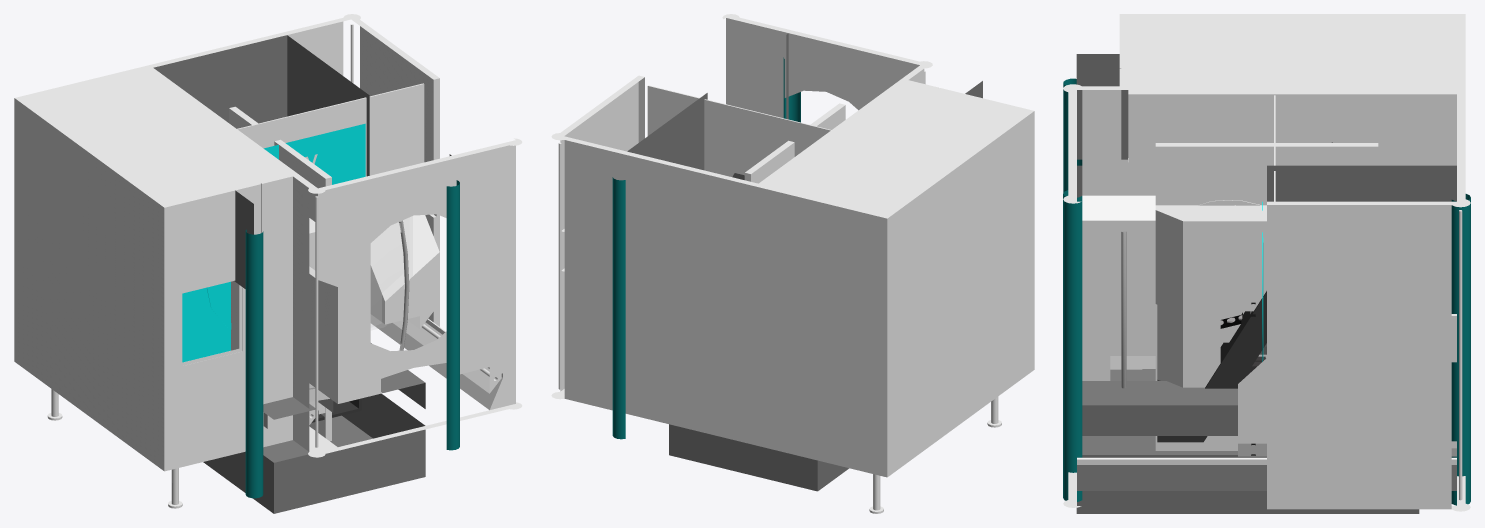
The model's file is DMC_small.glb.
3 renders of one model, left to right at view 1: azimuth 30°, elevation 25°; view 2: azimuth 150°, elevation 25°; view 3: azimuth 270°, elevation 25°, orthographic. The views are drawn at different scales.
Parts seen in each view (by area): view 1: 006435-1 - Teil, 006435-1 - Teil 2, 006435-1 - Teil 4, 006435-1 - Teil 3, 006435-1 - Teil 5, 006439-1 - Teil, 006435-1 - Teil 8; view 2: 006435-1 - Teil, 006435-1 - Teil 2, 006435-1 - Teil 4, 006439-1 - Teil; view 3: 006435-1 - Teil, 006435-1 - Teil 2, 006904-1 - Teil, 006439-1 - Teil, 006435-1 - Teil 4, 006451-1 - Teil, 006435-1 - Teil 8.
Part boxes in pixels (x1,y1,x2,y2): 006435-1 - Teil: (14, 14, 522, 508); 006435-1 - Teil 2: (153, 35, 451, 513); 006435-1 - Teil 4: (245, 180, 459, 498); 006435-1 - Teil 3: (182, 123, 365, 362); 006435-1 - Teil 5: (371, 216, 412, 329); 006439-1 - Teil: (229, 106, 331, 441); 006435-1 - Teil 8: (263, 220, 409, 428); 006435-1 - Teil: (551, 14, 1034, 513); 006435-1 - Teil 2: (627, 33, 982, 491); 006435-1 - Teil 4: (612, 57, 800, 439); 006439-1 - Teil: (744, 103, 845, 183); 006435-1 - Teil: (1063, 14, 1470, 511); 006435-1 - Teil 2: (1076, 54, 1456, 513); 006904-1 - Teil: (1155, 205, 1266, 387); 006439-1 - Teil: (1155, 143, 1378, 450); 006435-1 - Teil 4: (1063, 78, 1470, 505); 006451-1 - Teil: (1157, 142, 1332, 442); 006435-1 - Teil 8: (1110, 231, 1155, 388).
Bounding box in the file's own units: 87488 × 76680 × 77985.
Materials: 16 (4 with a texture image).
